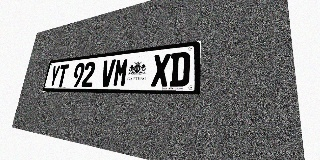2: (81, 61, 96, 87)
9: (71, 62, 85, 87)
D: (169, 51, 190, 87)
M: (112, 58, 129, 87)
T: (56, 64, 69, 87)
V: (100, 59, 116, 87)
X: (151, 53, 171, 87)
Y: (48, 65, 61, 87)
